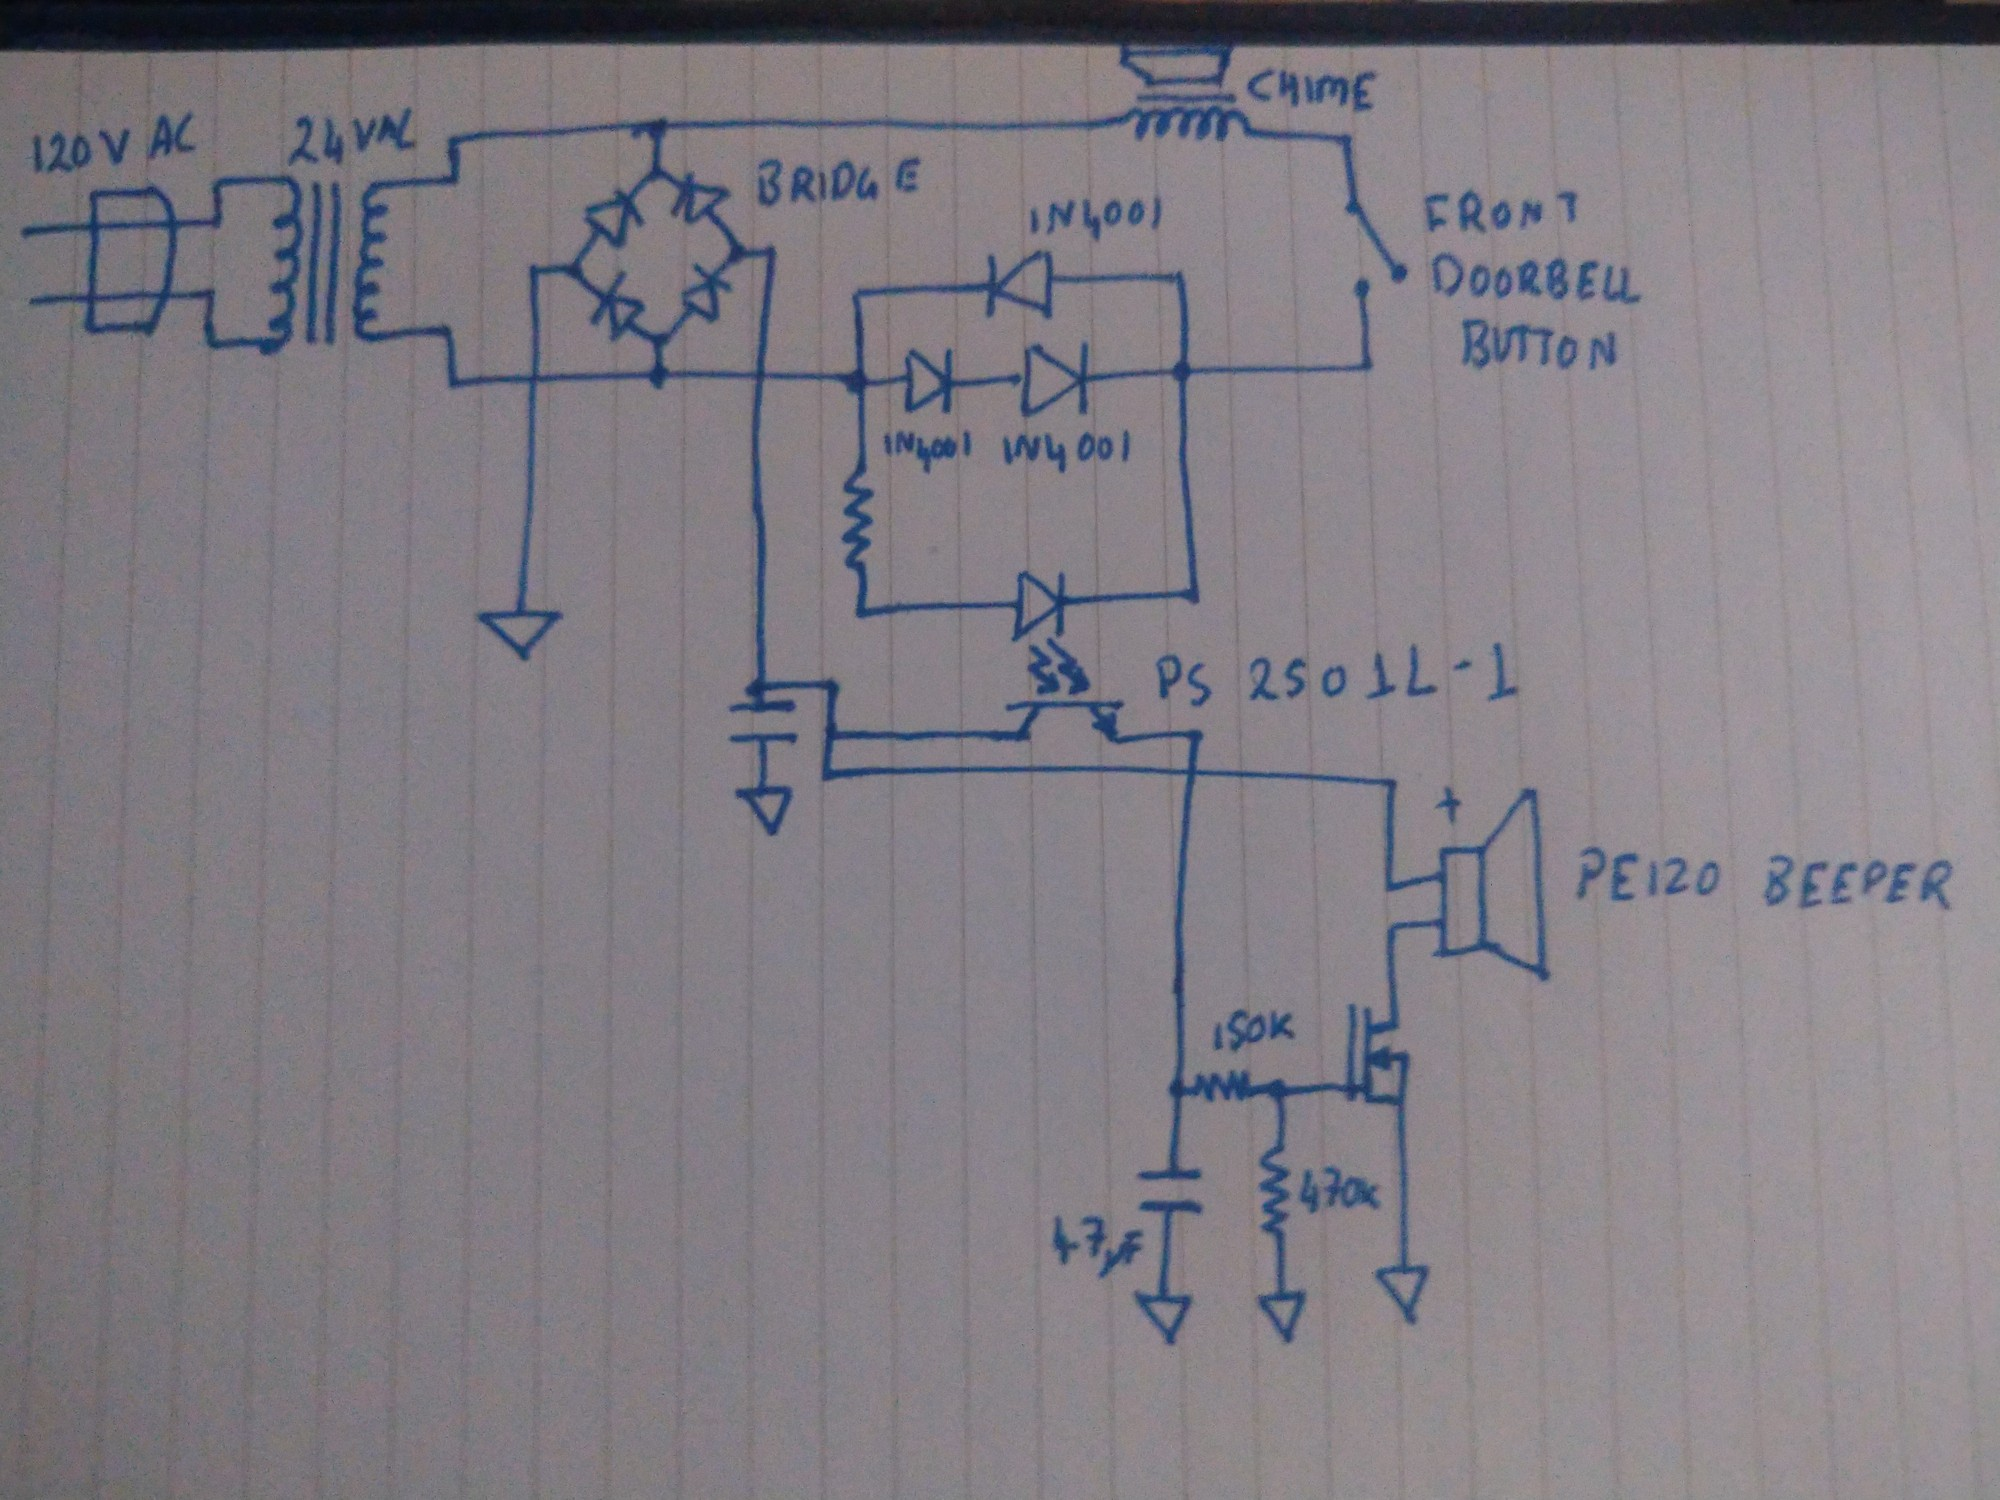capacitor.unpolarized: (1131, 1163, 1213, 1220), (721, 696, 803, 748)
crossover: (1176, 759, 1205, 786), (746, 362, 773, 388), (523, 369, 543, 391)
diode: (1016, 337, 1094, 424), (980, 247, 1057, 321), (584, 268, 649, 343), (899, 345, 964, 418), (580, 187, 647, 251), (676, 262, 739, 326), (666, 172, 734, 227)
gnd: (468, 605, 569, 665), (1370, 1265, 1435, 1328), (731, 785, 797, 837), (1134, 1292, 1195, 1347), (1254, 1289, 1310, 1344)
junction: (643, 361, 674, 391), (1261, 1076, 1293, 1105), (646, 328, 674, 358), (1169, 358, 1198, 386), (847, 280, 876, 310), (1181, 723, 1211, 748), (644, 115, 669, 143), (1375, 874, 1402, 900), (724, 238, 750, 265), (745, 673, 773, 696), (562, 257, 584, 287), (814, 763, 841, 786), (1180, 583, 1205, 607), (761, 241, 784, 266), (1380, 774, 1406, 796), (820, 674, 844, 698), (1165, 1078, 1189, 1101), (820, 722, 846, 744), (444, 129, 466, 150), (1381, 917, 1405, 936), (852, 600, 871, 622), (438, 321, 458, 340), (1169, 269, 1191, 287), (847, 372, 866, 391), (524, 260, 543, 279), (647, 165, 668, 183), (208, 213, 224, 233), (1356, 358, 1373, 375), (446, 373, 461, 392), (202, 285, 217, 304), (202, 334, 217, 351), (209, 173, 227, 189), (1339, 131, 1354, 148), (446, 172, 461, 187)
optocoupler: (1000, 561, 1129, 752)
resistor: (835, 465, 879, 574), (1250, 1139, 1293, 1238), (1191, 1070, 1257, 1106)
socket: (80, 186, 180, 340)
speaker: (1428, 778, 1557, 986), (1112, 32, 1257, 150)
switch: (1339, 195, 1409, 296)
terminal: (16, 287, 57, 318), (13, 216, 49, 244)
text: (1570, 845, 1964, 915), (1153, 641, 1529, 712), (1428, 251, 1647, 309), (28, 112, 198, 175), (1458, 315, 1624, 373), (754, 158, 924, 210), (1417, 186, 1583, 238), (287, 106, 417, 169), (1027, 191, 1165, 244), (997, 427, 1139, 479), (1046, 1212, 1148, 1283), (1244, 65, 1387, 113), (1296, 1161, 1387, 1221), (1209, 1004, 1301, 1057), (879, 427, 980, 474)
transformer: (257, 172, 395, 359)
transistor: (1342, 997, 1416, 1109)
